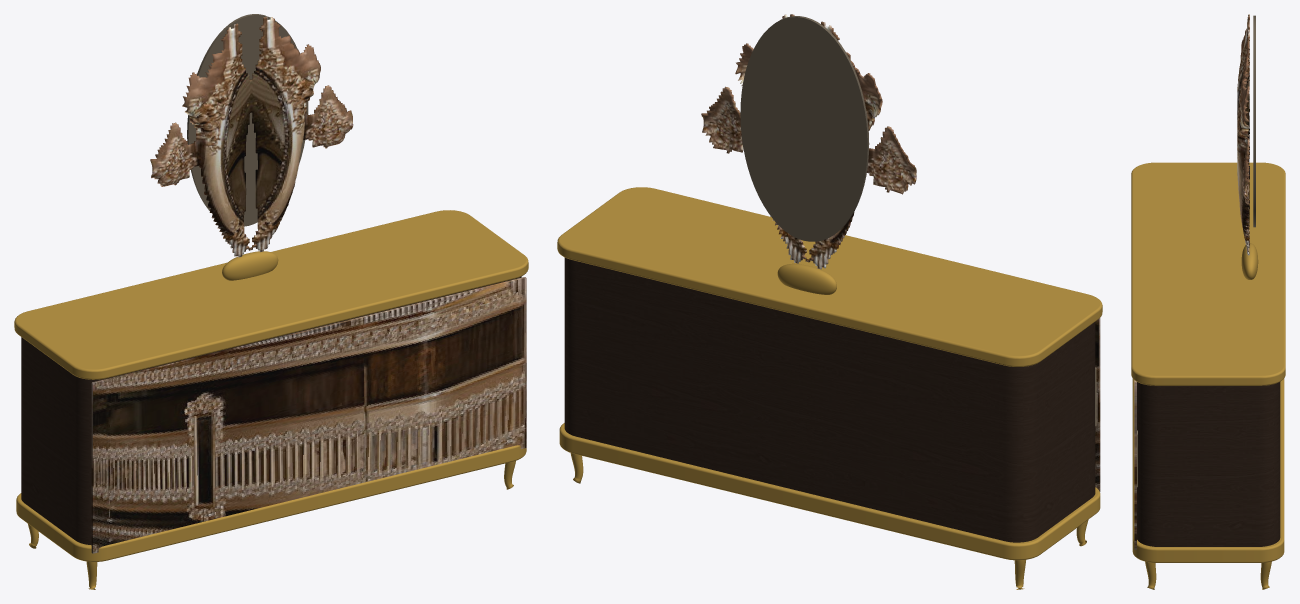
Rendered from empire-royal-bed-set--dresser.glb.
3 renders of one model, left to right at view 1: azimuth 30°, elevation 25°; view 2: azimuth 150°, elevation 25°; view 3: azimuth 270°, elevation 25°, orthographic. The views are drawn at different scales.
Parts seen in each view (by area): view 1: frontface, top, mframe, body, skirt, mglass, mfoot; view 2: body, top, mglass, skirt, mframe, mfoot, frontface; view 3: top, body, skirt, mframe, mglass, frontface, mfoot, leg11, leg1-1.
Part boxes in pixels (x1,y1,x2,y2): frontface: (91,277,526,553); top: (14,210,528,379); mframe: (150,16,353,257); body: (21,276,521,545); skirt: (16,445,526,561); mglass: (187,14,308,226); mfoot: (222,251,278,280); body: (564,257,1095,542); top: (557,187,1102,366); mglass: (740,16,869,241); skirt: (559,423,1100,560); mframe: (701,14,916,269); mfoot: (777,263,836,294); frontface: (1095,318,1100,491); top: (1131,162,1285,385); body: (1137,382,1280,546); skirt: (1132,378,1284,562); mframe: (1237,14,1249,255); mglass: (1253,15,1255,227); frontface: (1134,380,1136,549); mfoot: (1241,243,1258,279); leg11: (1260,561,1271,589); leg1-1: (1145,561,1156,589).
Size of the model in its own units: 1.84 by 1.88 by 0.56.
6 materials, 4 textured.
